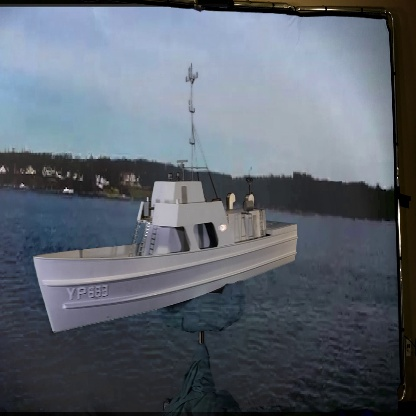YP689: (31, 66, 298, 335)
